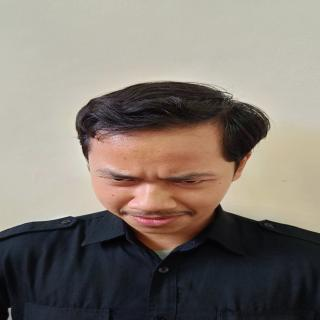Marah: (74, 122, 241, 245)
